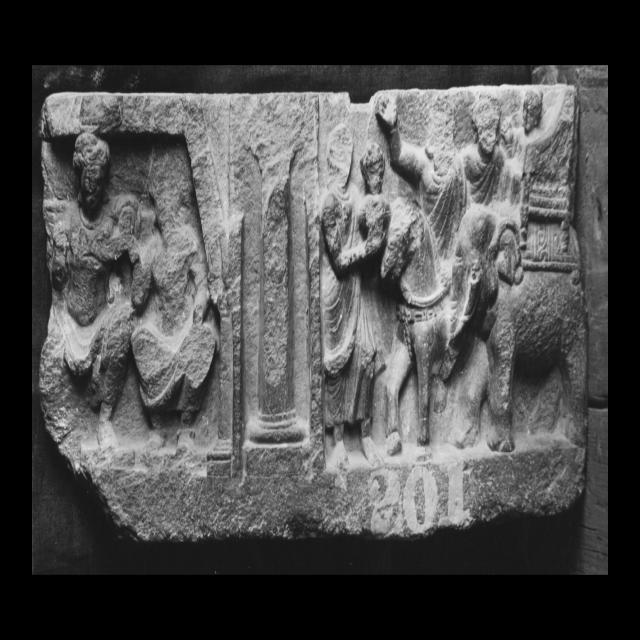buddha-horse-riding: (379, 88, 515, 460)
buddha-sitting: (50, 133, 140, 449)
